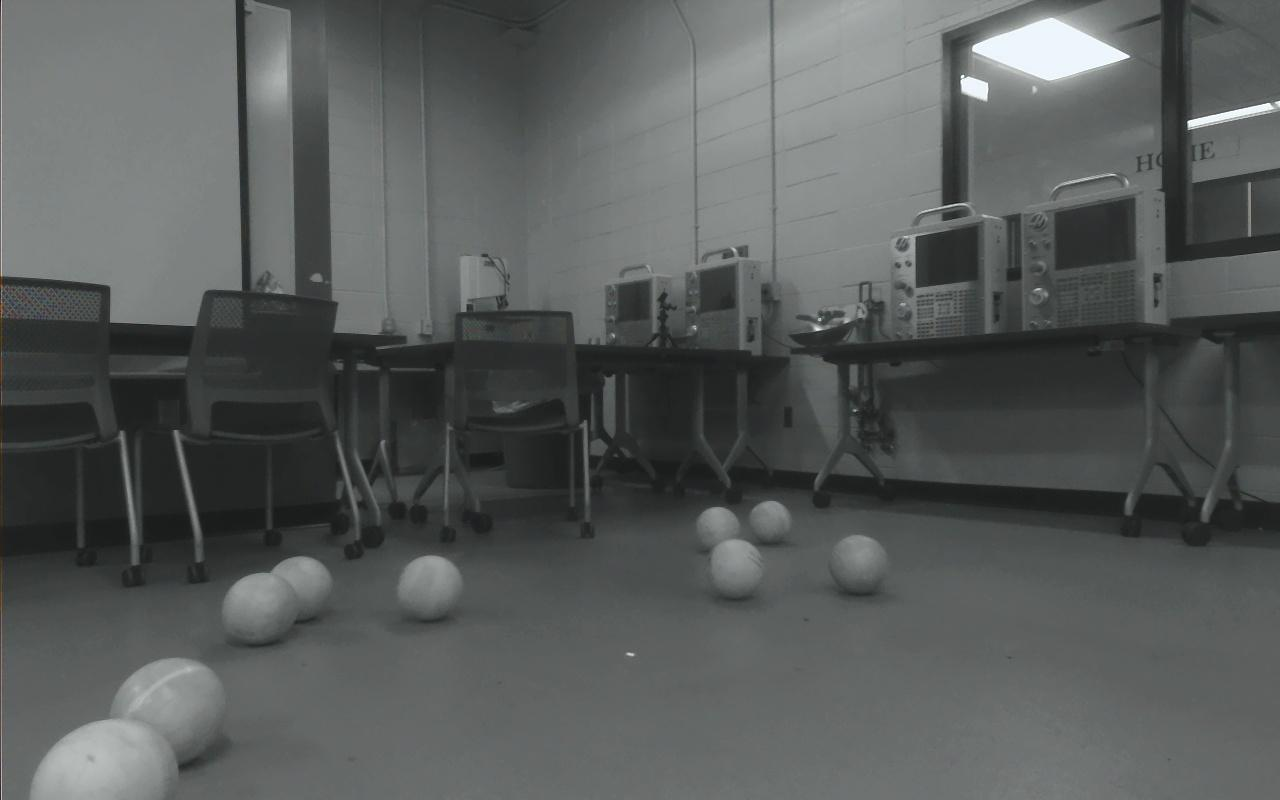Fuel: (110, 657, 228, 765), (32, 718, 179, 800), (220, 572, 300, 646), (396, 555, 463, 621), (268, 555, 333, 622), (829, 534, 888, 594), (708, 538, 764, 599), (695, 506, 741, 550), (749, 501, 792, 543)
